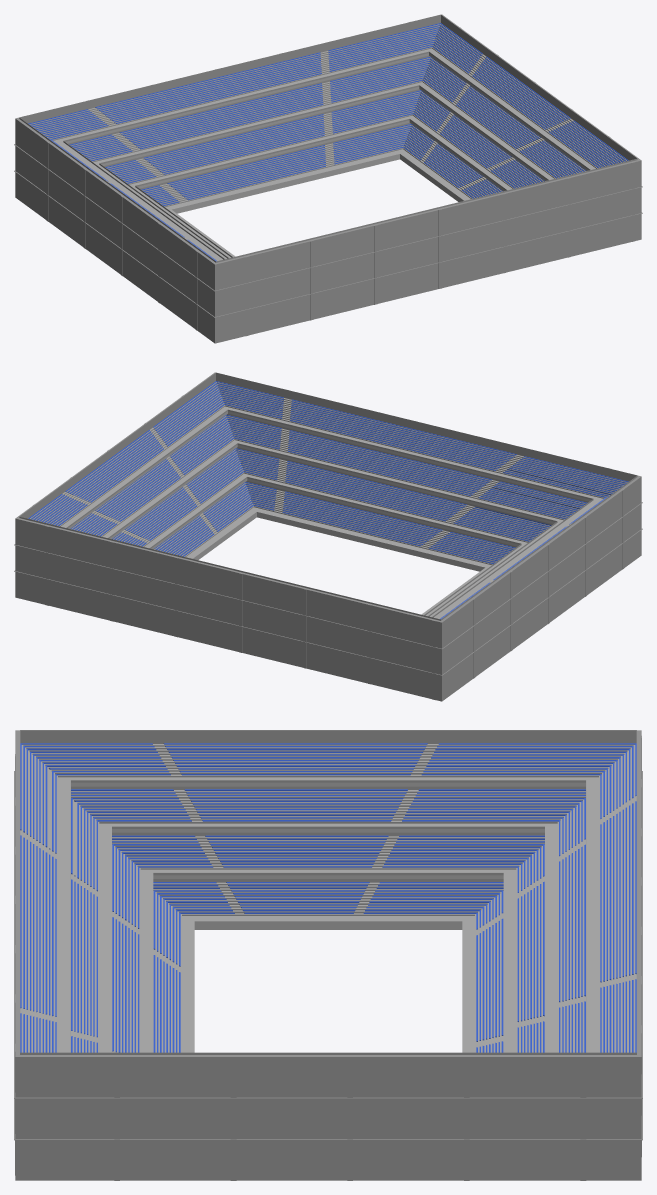
The model's file is Stadium.fbx.
The picture shows the model from 3 angles, top to bottom: view 1: azimuth 30°, elevation 25°; view 2: azimuth 150°, elevation 25°; view 3: azimuth 270°, elevation 25°; orthographic projection. The views are drawn at different scales.
Visible parts, largest first — view 1: Procedural_Stadium; view 2: Procedural_Stadium; view 3: Procedural_Stadium.
Boxes of the visible parts, box(x1,y1,x2,y2) form: Procedural_Stadium: box(14, 14, 642, 343); Procedural_Stadium: box(14, 372, 642, 701); Procedural_Stadium: box(14, 730, 642, 1180).
Size of the model in its own units: 244 by 43.8 by 198.
